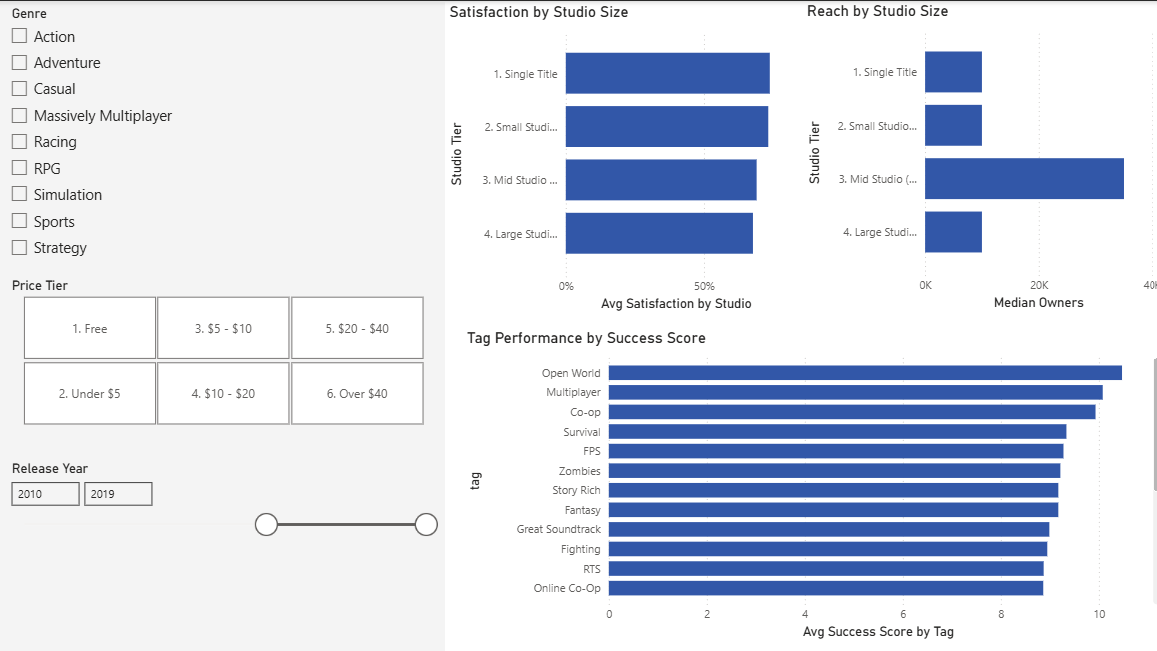

This screenshot's page, from the dashboard's own definition file:
{"tool":"powerbi","page":{"name":"Deep Dive","canvas":[1280,720],"ordinal":2},"visuals":[{"type":"shape","box":[0,1.4,488.5,719],"z":0},{"type":"barChart","title":"Tag Performance by Success Score","fields":{"Category":["game_tags.tag"],"Y":["_Measures.Avg Success Score by Tag"]},"box":[507.7,359.5,772.6,345.8],"z":1000},{"type":"clusteredBarChart","title":"Reach by Studio Size","fields":{"Category":["games.Studio Tier"],"Y":["_Measures.Median Owners"]},"box":[881,0,399.3,344.4],"z":2000},{"type":"clusteredBarChart","title":"Satisfaction by Studio Size","fields":{"Category":["games.Studio Tier"],"Y":["_Measures.Avg Satisfaction by Studio"]},"box":[488.5,1.4,392.5,344.4],"z":3000},{"type":"slicer","fields":{"Values":["game_genres.genre"]},"box":[0,0,385.6,299.1],"z":4000},{"type":"slicer","fields":{"Values":["games.Price Tier"]},"box":[0,299.1,488.5,172.9],"z":5000},{"type":"slicer","fields":{"Values":["games.release_year"]},"box":[0,499.5,488.5,155.1],"z":6000}]}

Visuals, with their boxes in screenshot pixels (x1, y1, x2, y2), scaled from the page's 1280x720 canvas onto the 1157x651 screenshot:
shape: x1=0 y1=1 x2=442 y2=650
"Tag Performance by Success Score" barChart: x1=459 y1=325 x2=1156 y2=638
"Reach by Studio Size" clusteredBarChart: x1=796 y1=0 x2=1156 y2=311
"Satisfaction by Studio Size" clusteredBarChart: x1=442 y1=1 x2=796 y2=313
slicer - game_genres.genre: x1=0 y1=0 x2=349 y2=270
slicer - games.Price Tier: x1=0 y1=270 x2=442 y2=427
slicer - games.release_year: x1=0 y1=452 x2=442 y2=592
